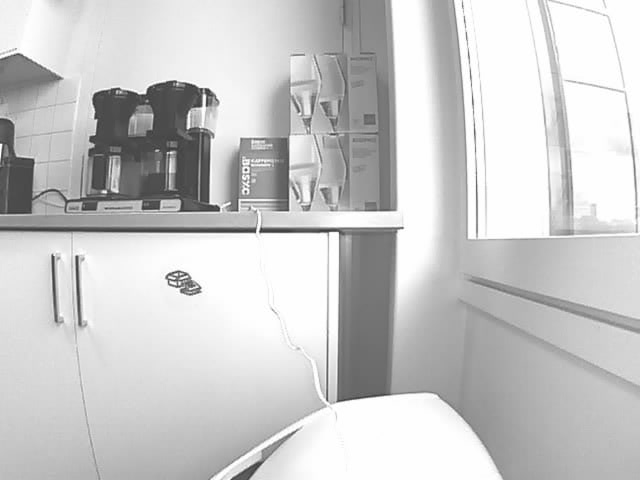not empty coffee: (149, 141, 194, 197)
